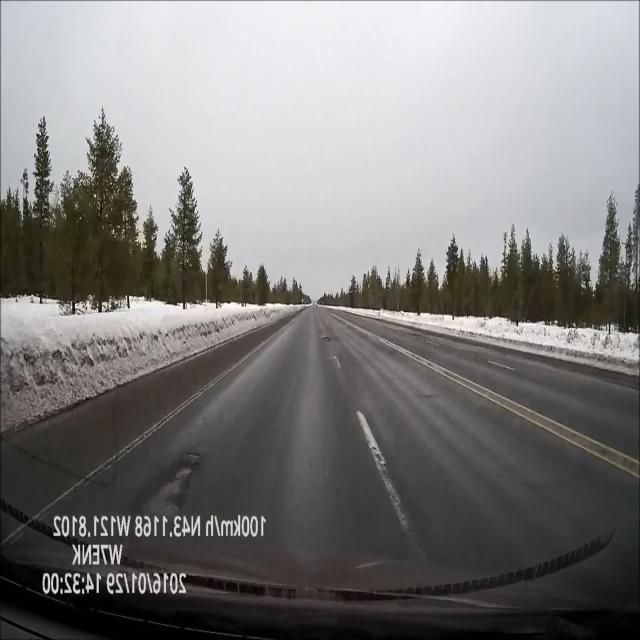pothole: (136, 444, 208, 513)
